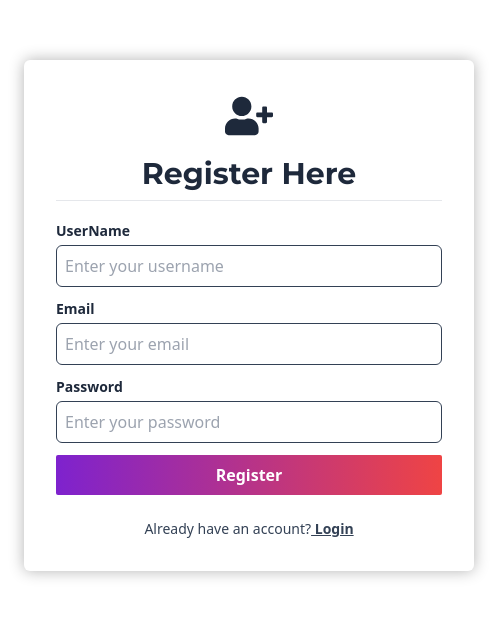
Scenario: Register Component › shows error for too short password
Enter a short password
Type "12345" into the password field with test id "password-input".
click(249, 422); type("12345")  # box 56,400 -> 442,442
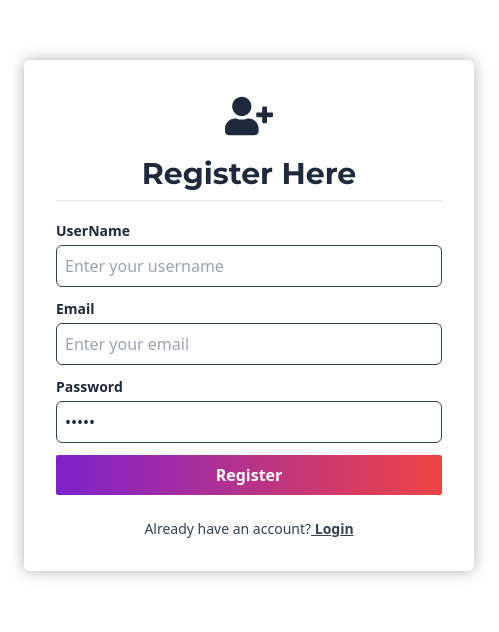
Submit the form
Click the button with test id "register-button".
click(249, 474)  # box 56,454 -> 442,494
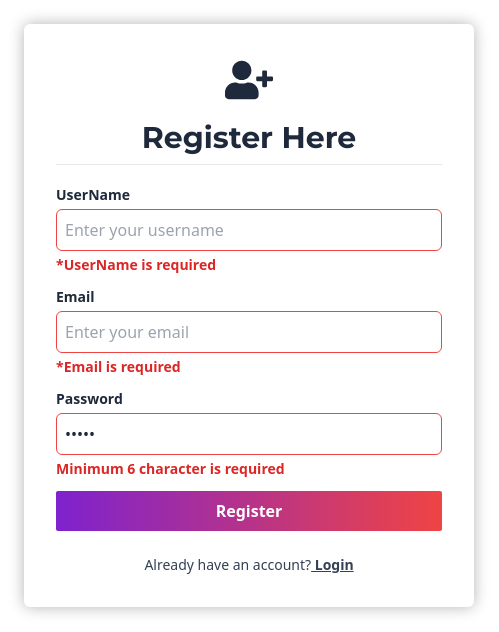
Expected: the text with test id "password-error" reads "Minimum 6 character is required", 56,458 -> 285,478
